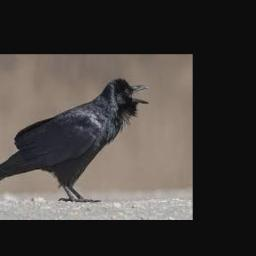Crow: (0, 78, 150, 202)
